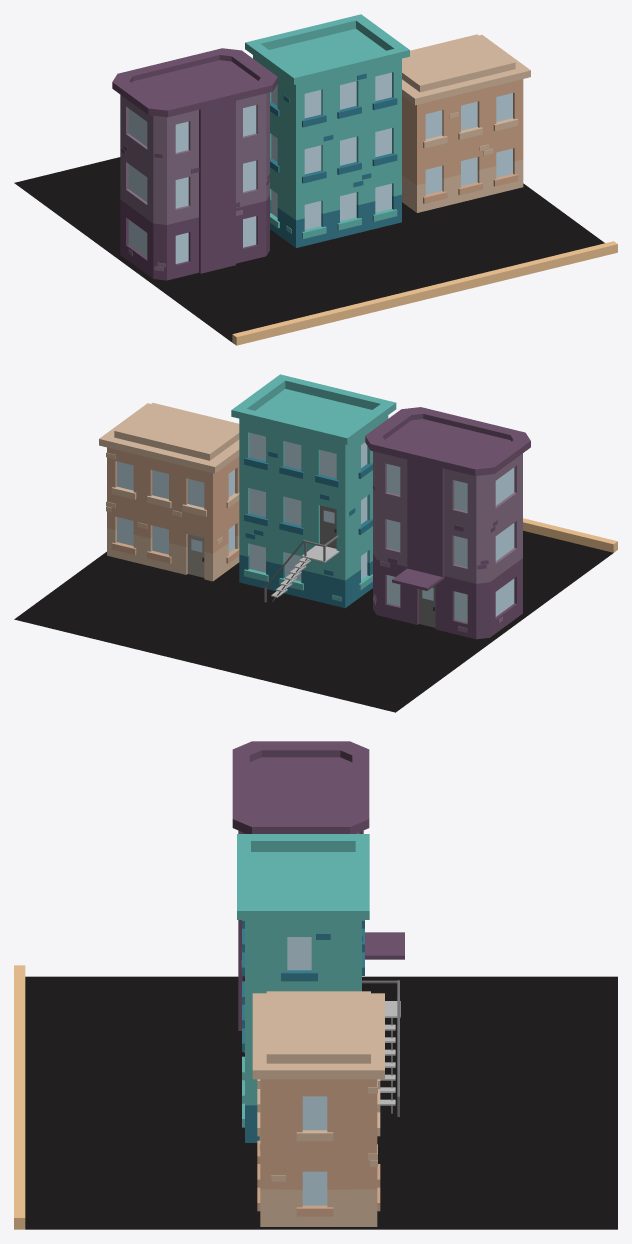
The model's file is Tile 25_Combined.fbx.
3 views of the same model, one above another, from view 1: azimuth 30°, elevation 25°; view 2: azimuth 150°, elevation 25°; view 3: azimuth 270°, elevation 25° (orthographic). The views are drawn at different scales.
Parts seen in each view (by area): view 1: MeshBaker_Cluster_0_mesh_mesh; view 2: MeshBaker_Cluster_0_mesh_mesh; view 3: MeshBaker_Cluster_0_mesh_mesh.
Boxes of the visible parts, x1,y1,x2,y2 form: MeshBaker_Cluster_0_mesh_mesh: [14, 14, 617, 345]; MeshBaker_Cluster_0_mesh_mesh: [14, 374, 617, 712]; MeshBaker_Cluster_0_mesh_mesh: [14, 741, 617, 1229].
Size of the model in its own units: 3009 by 1301 by 3029.
